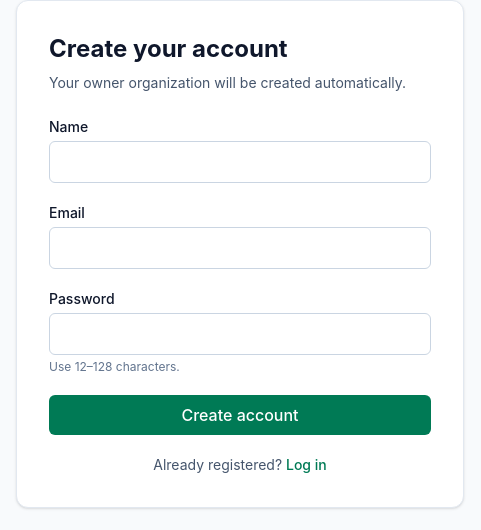
Test: RegisterView › rejects a short password locally
Type "Ada" into the field with id "name" at (240, 162), box [49, 141, 431, 183]
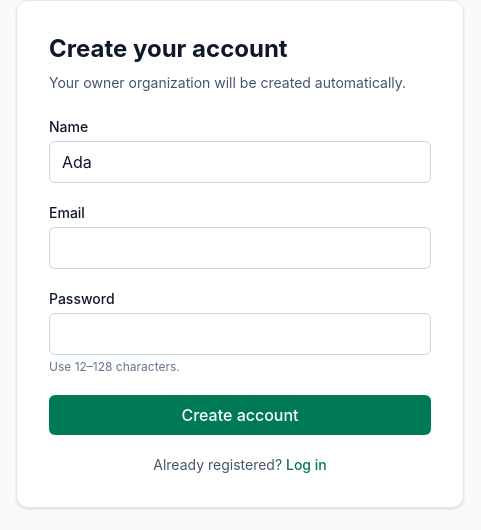
Type "ada@example.com" into the field with id "email" at (240, 248), box [49, 227, 431, 269]
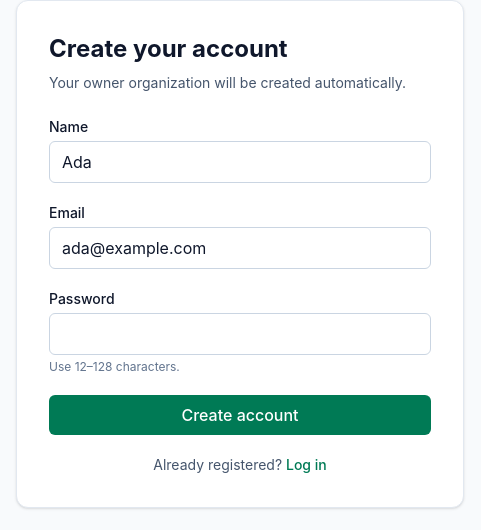
Type "short" into the password field labelled "Password" at (240, 334), box [49, 313, 431, 355]
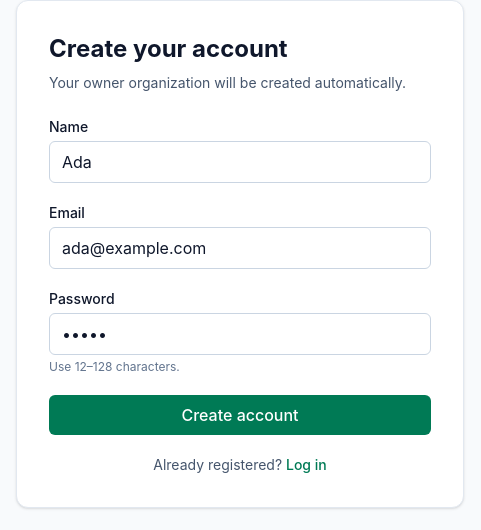
Submit the form, box [49, 117, 431, 435]
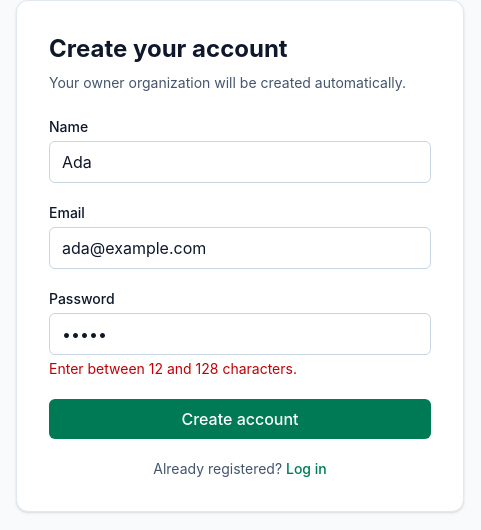
Result: the text "Enter between 12 and 128 characters." is shown at [49, 360, 297, 377]
